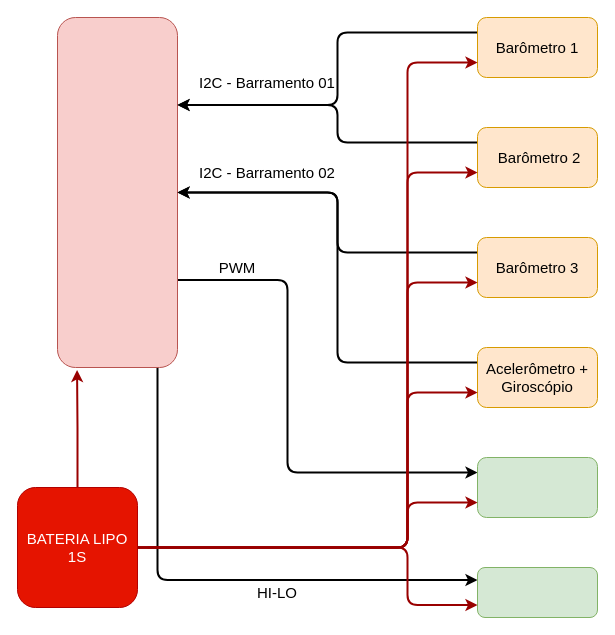
Image size: 615x635. Some labels were removed from this diagram. The centre of each missing label's shape, as x and y in pixels:
"Buzzer" goes at [537,592].
"MCC" goes at [117,192].
"Servo Motor" goes at [537,487].
